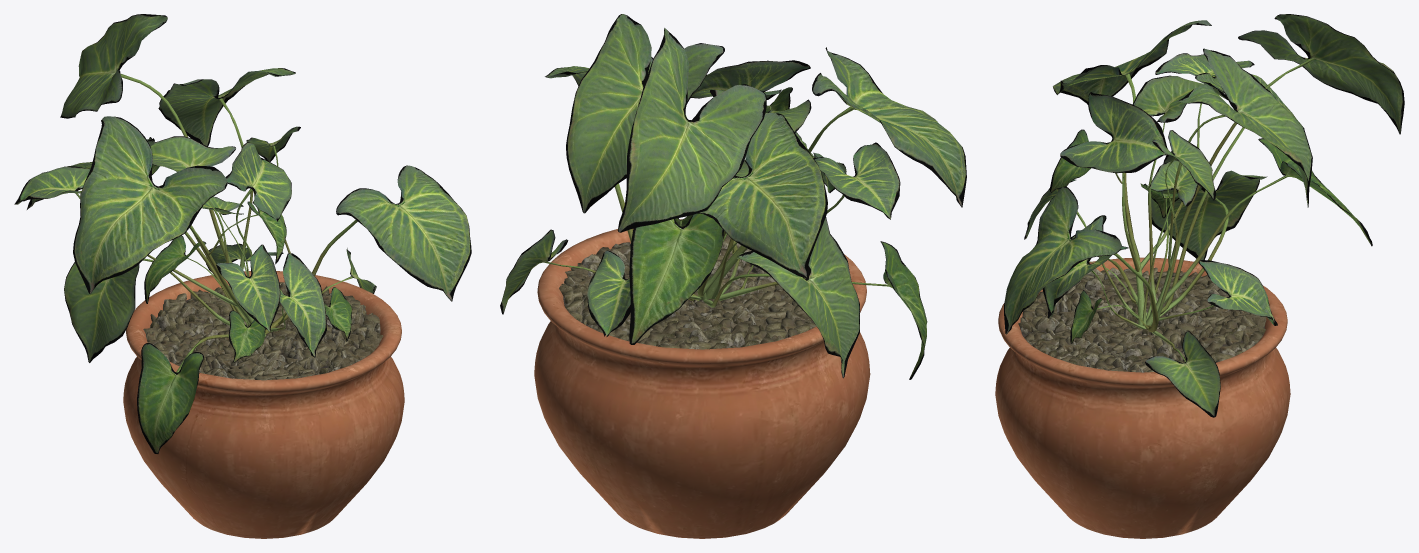
Rendered from ph_potted_plant_02.glb.
3 views of the same model, side by side, from view 1: azimuth 30°, elevation 25°; view 2: azimuth 150°, elevation 25°; view 3: azimuth 270°, elevation 25° (orthographic). The views are drawn at different scales.
Visible parts, largest first — view 1: potted_plant_02_leaves, potted_plant_02_pot, potted_plant_02_dirt; view 2: potted_plant_02_leaves, potted_plant_02_pot, potted_plant_02_dirt; view 3: potted_plant_02_leaves, potted_plant_02_pot, potted_plant_02_dirt.
Boxes of the visible parts, x1,y1,x2,y2 form: potted_plant_02_leaves: (14,14,471,453); potted_plant_02_pot: (123,271,404,538); potted_plant_02_dirt: (143,282,383,380); potted_plant_02_leaves: (500,14,966,379); potted_plant_02_pot: (534,219,870,538); potted_plant_02_dirt: (559,234,816,349); potted_plant_02_leaves: (1004,14,1404,417); potted_plant_02_pot: (995,257,1290,538); potted_plant_02_dirt: (1018,267,1266,372).
Bounding box in the file's own units: 0.7009 × 0.8412 × 0.6574.
Materials: 2 (2 with a texture image).
